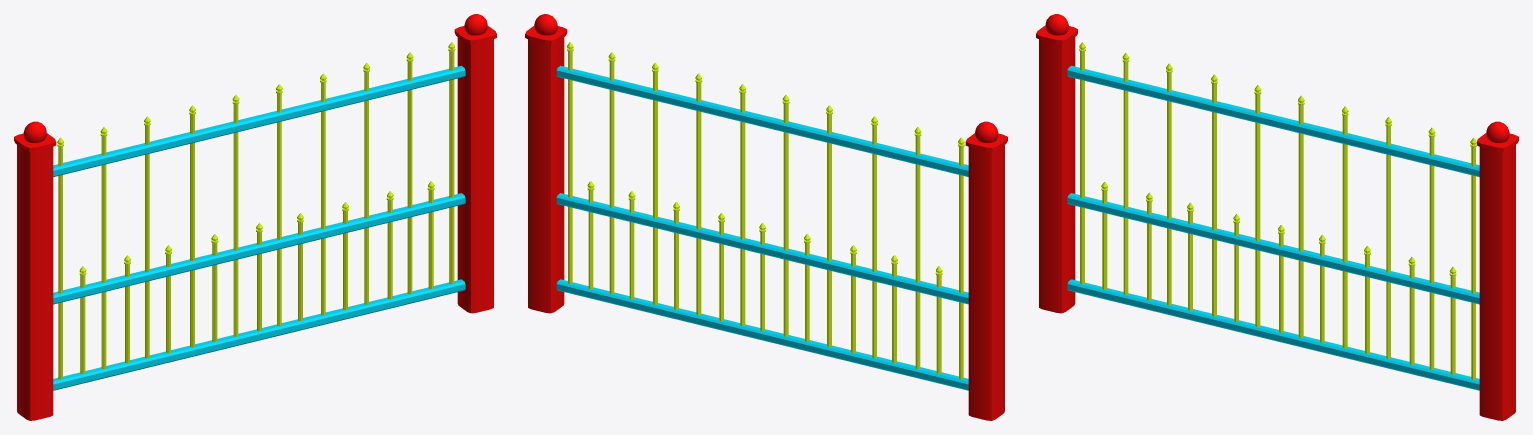
The model's file is Fence_WithEnd.fbx.
3 views of the same model, side by side, from view 1: azimuth 30°, elevation 25°; view 2: azimuth 150°, elevation 25°; view 3: azimuth 330°, elevation 25° (orthographic).
Parts seen in each view (by area): view 1: Box009, Box010, Box011, Box005; view 2: Box009, Box010, Box011, Box005; view 3: Box009, Box010, Box005, Box011.
Part boxes in pixels (left/top/right/bottom): Box009: left=57, top=42, right=455, bottom=379; Box010: left=53, top=65, right=465, bottom=390; Box011: left=14, top=121, right=56, bottom=420; Box005: left=454, top=14, right=496, bottom=313; Box009: left=567, top=42, right=964, bottom=379; Box010: left=556, top=65, right=968, bottom=390; Box011: left=965, top=121, right=1007, bottom=420; Box005: left=525, top=14, right=567, bottom=313; Box009: left=1079, top=42, right=1476, bottom=379; Box010: left=1067, top=65, right=1479, bottom=390; Box005: left=1477, top=121, right=1518, bottom=420; Box011: left=1036, top=14, right=1077, bottom=313.
Bounding box in the file's own units: 278 × 164 × 17.93.
